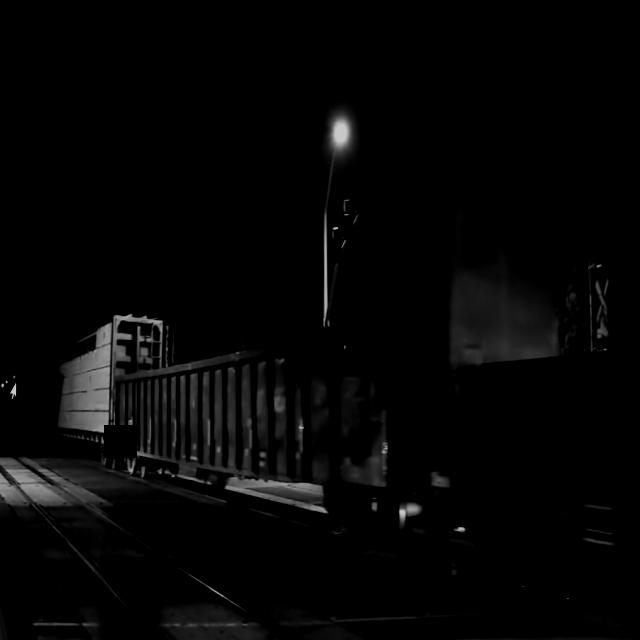cargo: (465, 330, 638, 482), (52, 312, 113, 440)
flatcar_bulkhead: (411, 117, 639, 624), (50, 309, 169, 457)
gondola: (116, 299, 423, 550)
